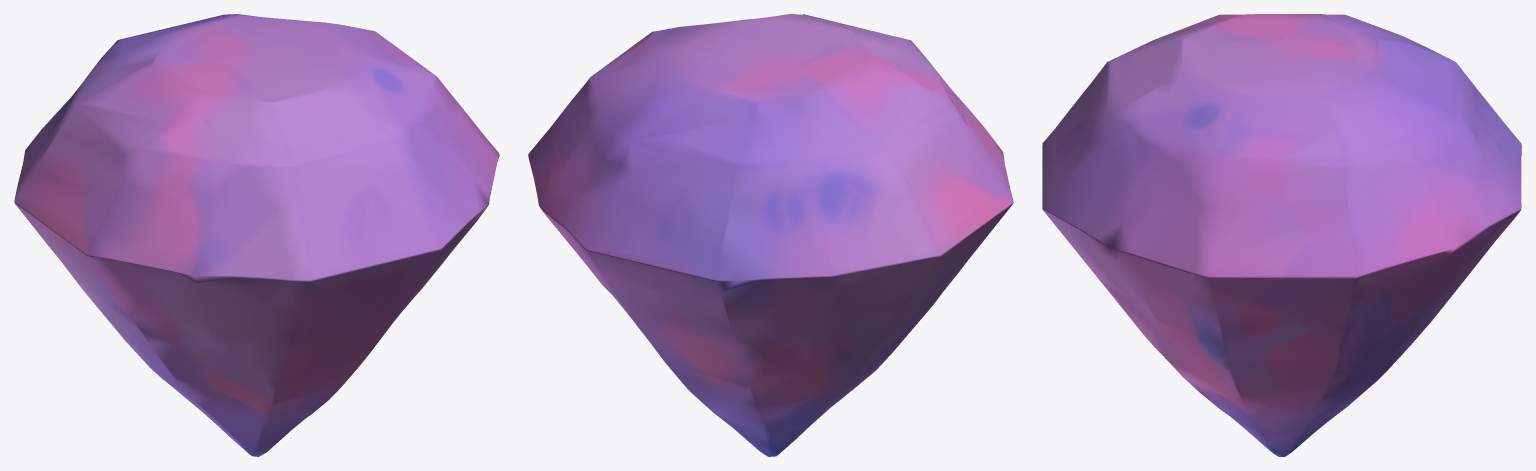
The picture shows the model from 3 angles, left to right: view 1: azimuth 30°, elevation 25°; view 2: azimuth 150°, elevation 25°; view 3: azimuth 270°, elevation 25°; orthographic projection.
Parts seen in each view (by area): view 1: gem-aura; view 2: gem-aura; view 3: gem-aura.
Boxes of the visible parts, left/top/right/bottom form: gem-aura: left=14, top=14, right=499, bottom=456; gem-aura: left=528, top=14, right=1013, bottom=456; gem-aura: left=1042, top=14, right=1521, bottom=456.
Size of the model in its own units: 0.28 by 0.257 by 0.2797.
Materials: 1 (1 with a texture image).
